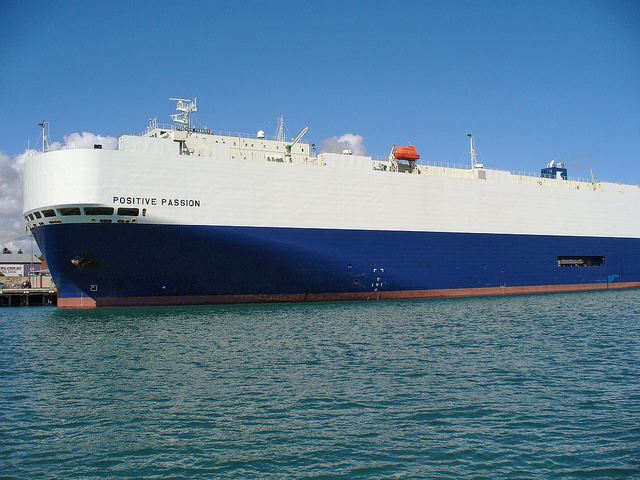PCC: (21, 97, 639, 307)
